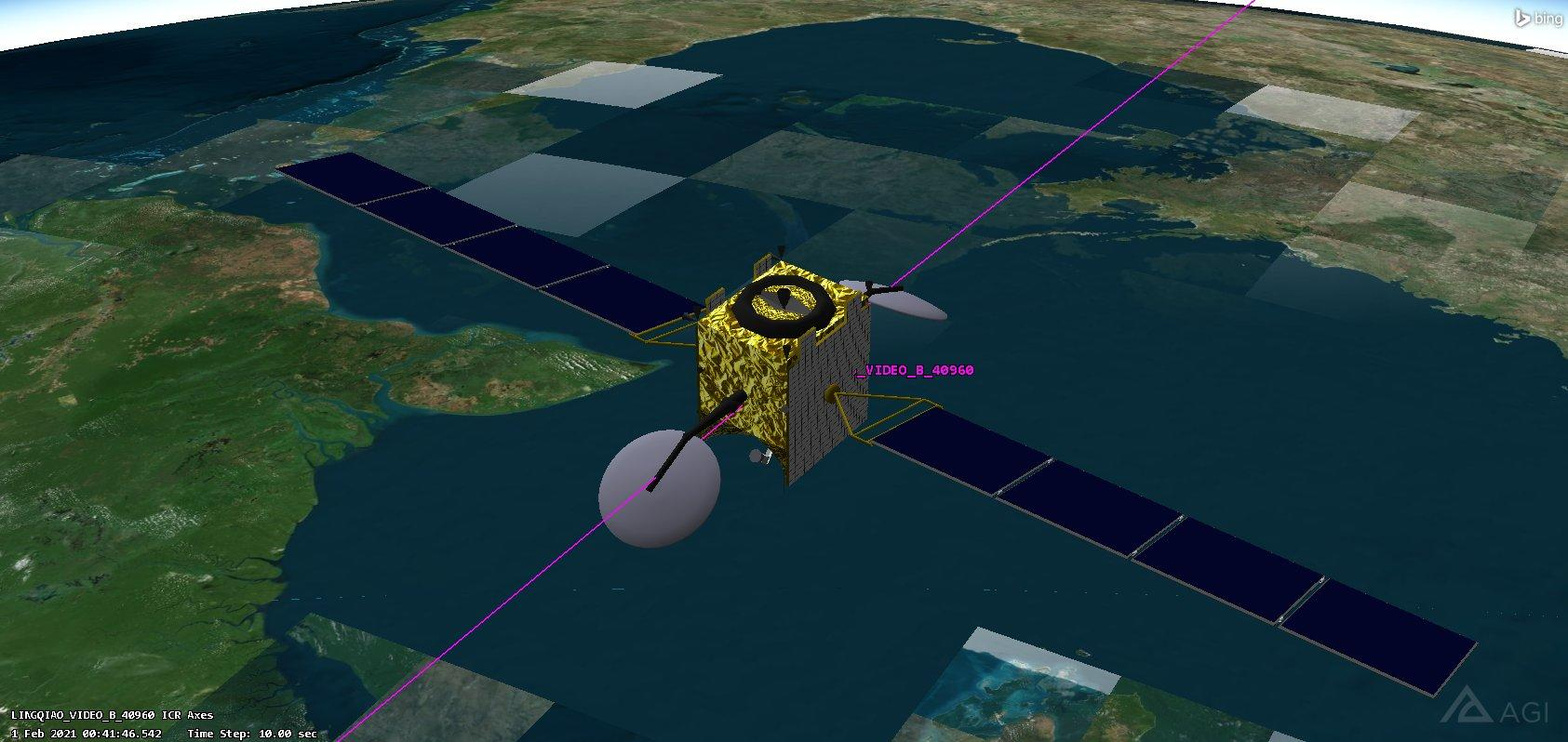antenna: (598, 428, 721, 551), (839, 277, 948, 323)
body: (696, 259, 873, 491)
solar: (864, 400, 1480, 701), (273, 149, 711, 334)
thruster: (775, 286, 792, 311), (744, 447, 768, 463), (678, 311, 698, 325), (691, 303, 704, 322), (765, 249, 782, 262), (782, 344, 792, 364), (776, 245, 786, 262), (864, 279, 874, 294)
